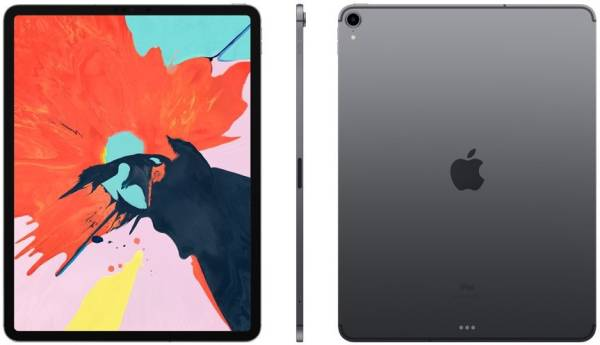apple: (445, 139, 501, 199)
